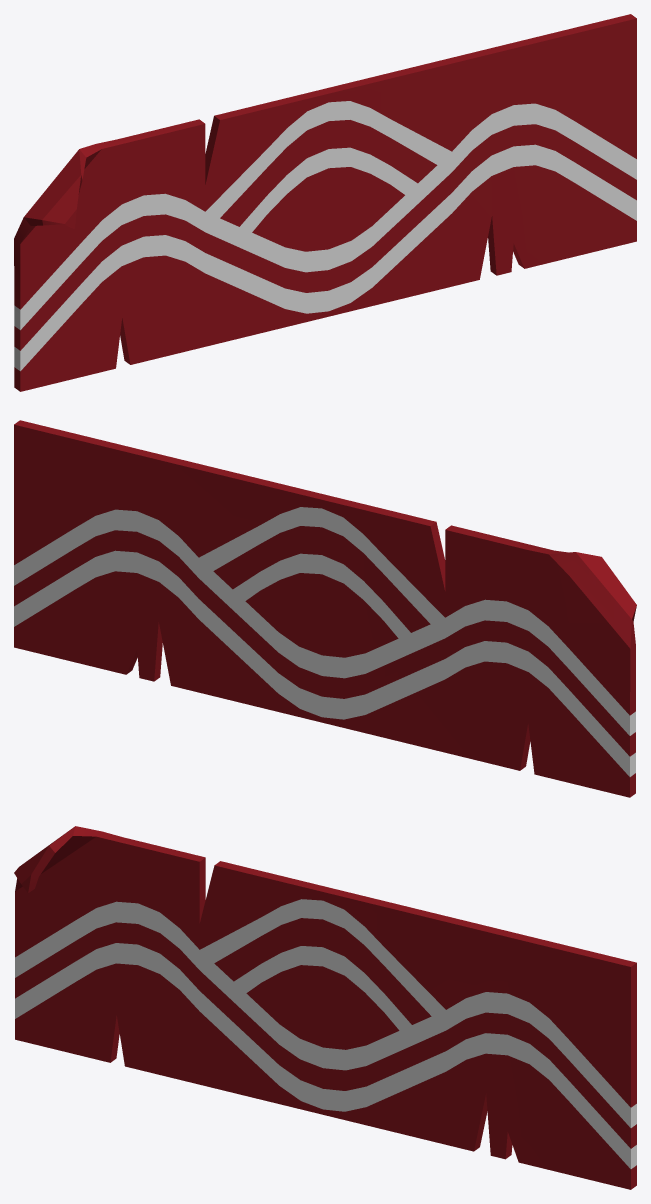
Rendered from quaternius-sushi-restaurant-decoration-painting.glb.
3 renders of one model, top to bottom at view 1: azimuth 30°, elevation 25°; view 2: azimuth 150°, elevation 25°; view 3: azimuth 330°, elevation 25°, orthographic.
Visible parts, largest first — view 1: Decoration_Painting; view 2: Decoration_Painting; view 3: Decoration_Painting.
Boxes of the visible parts, x1=… form: Decoration_Painting: x1=14, y1=14, x2=636, y2=391; Decoration_Painting: x1=14, y1=420, x2=636, y2=797; Decoration_Painting: x1=14, y1=826, x2=636, y2=1189.
Bounding box in the file's own units: 4 × 1.41 × 0.3.
1 material, 1 textured.
